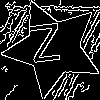Z: (28, 23, 64, 72)
